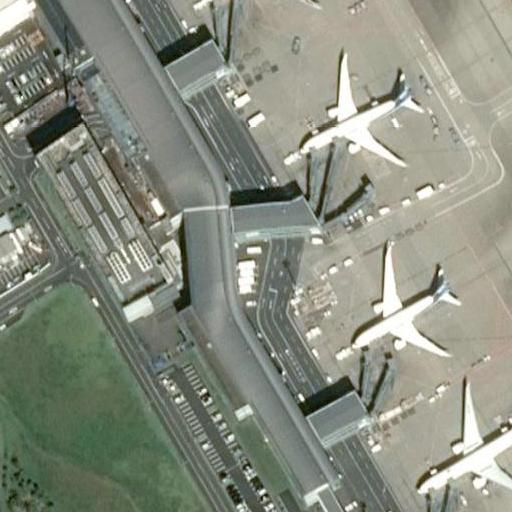Aircraft: (276, 52, 420, 174), (335, 248, 458, 363), (411, 384, 512, 503), (193, 0, 336, 8)
